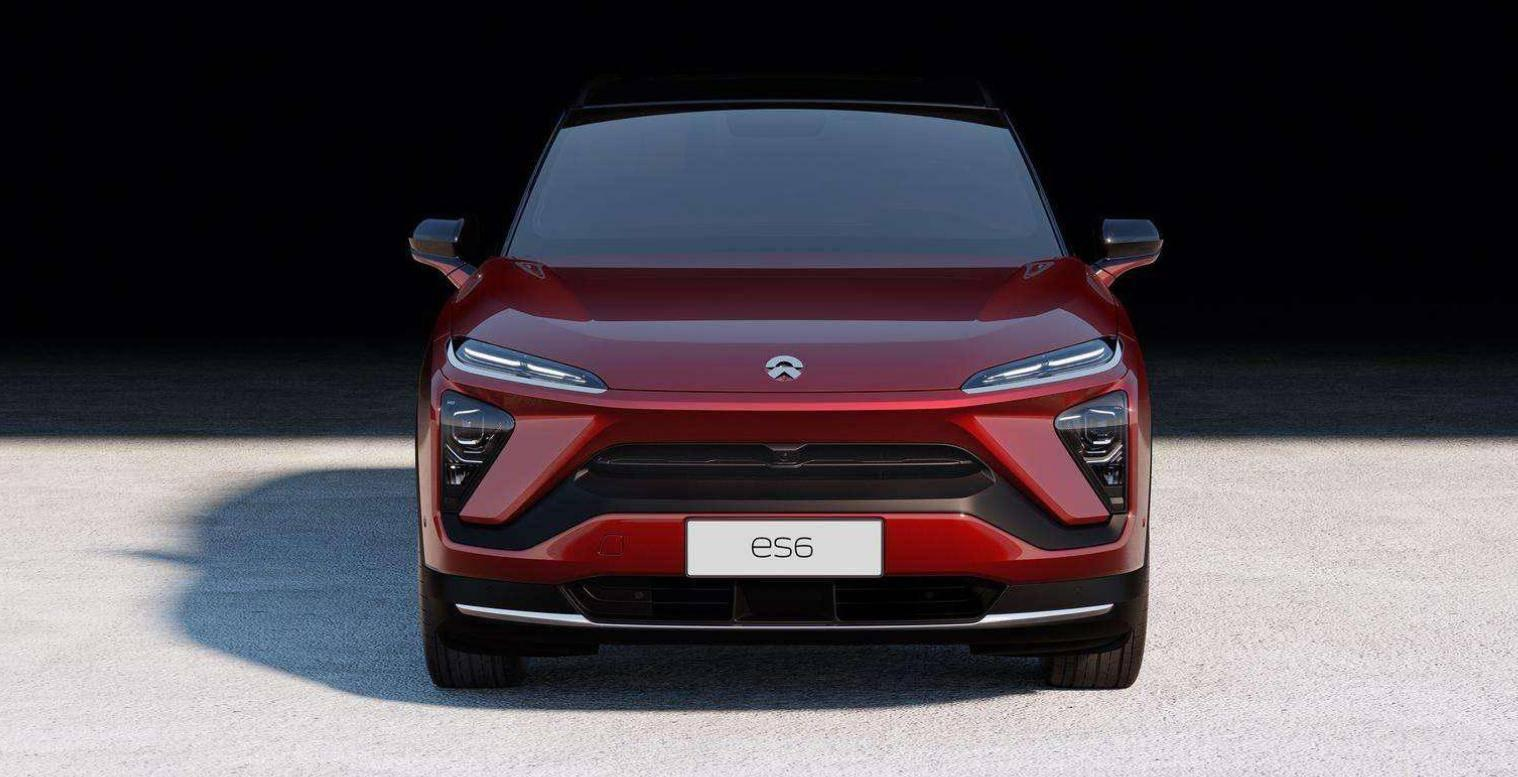NIO: (766, 355, 803, 379)
